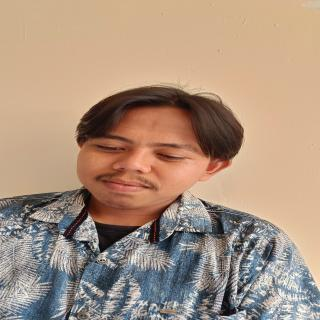Sedih: (77, 102, 214, 213)
